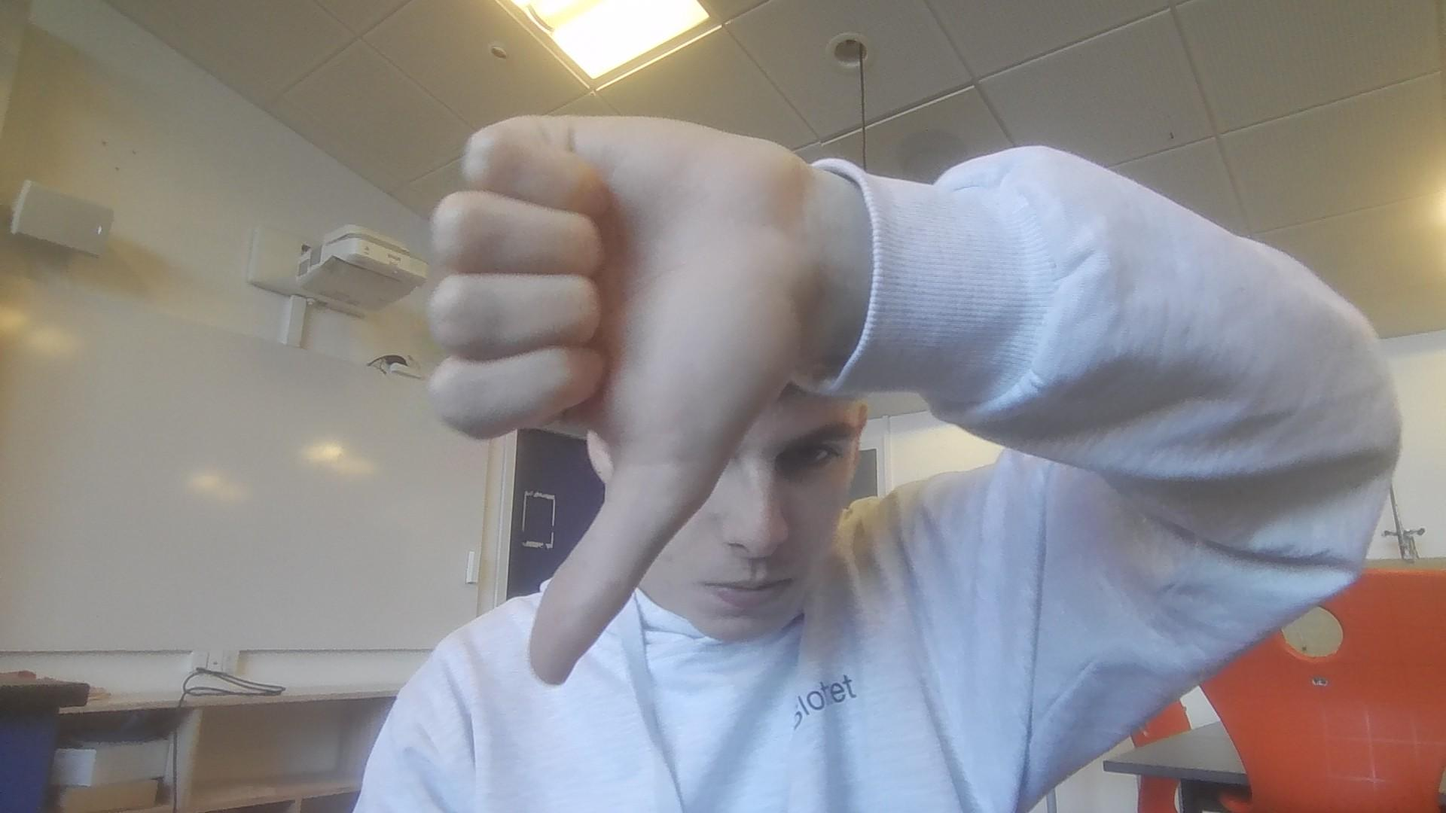thumbs down: (397, 113, 811, 679)
